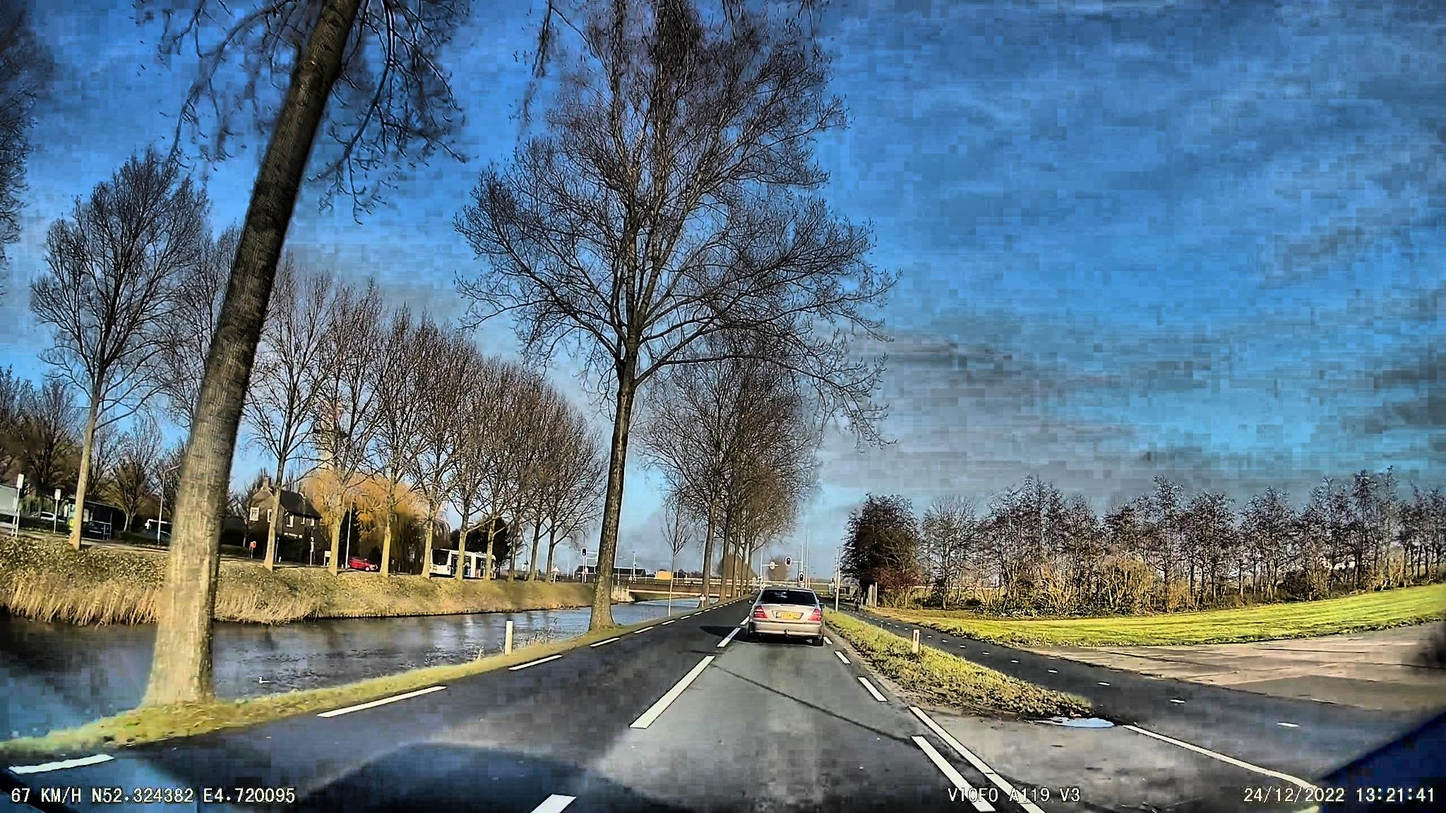Roads: (0, 610, 1446, 813)
